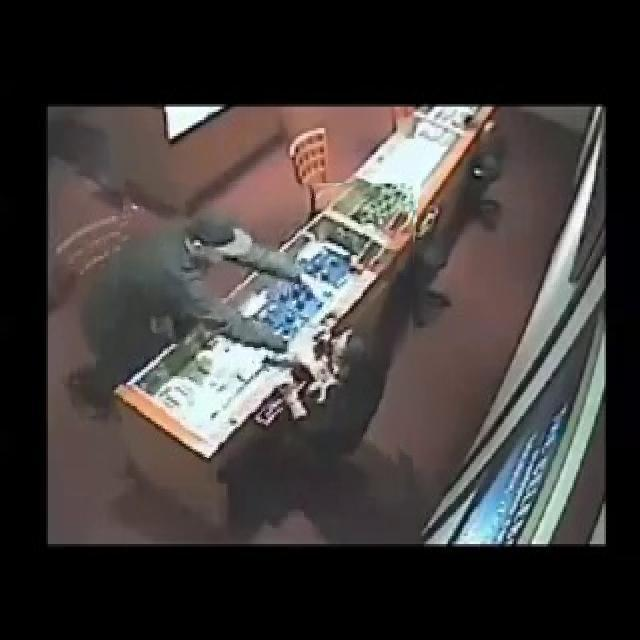Shoplifting: (109, 183, 413, 494)
